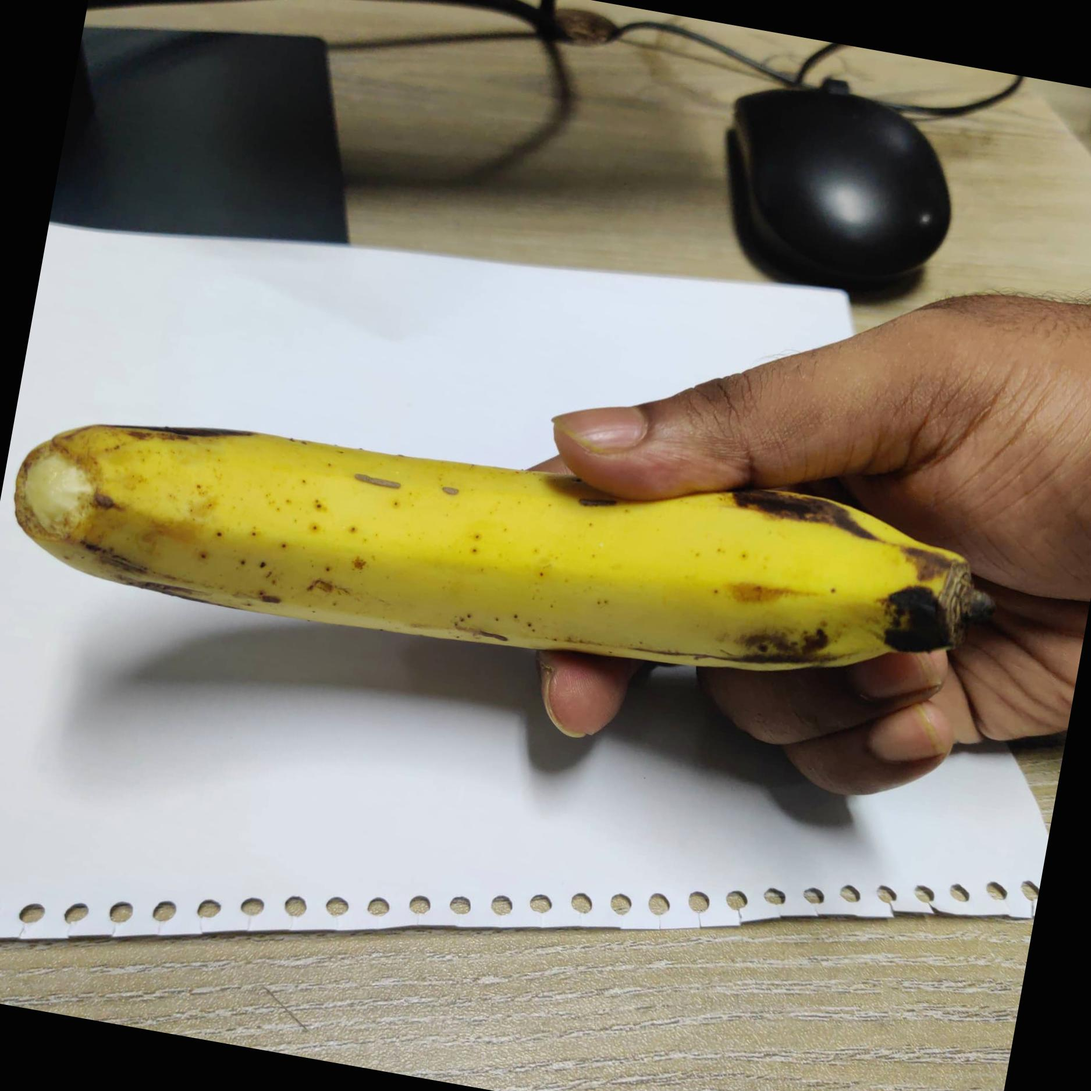Banana Ripe: (0, 348, 1091, 909)
